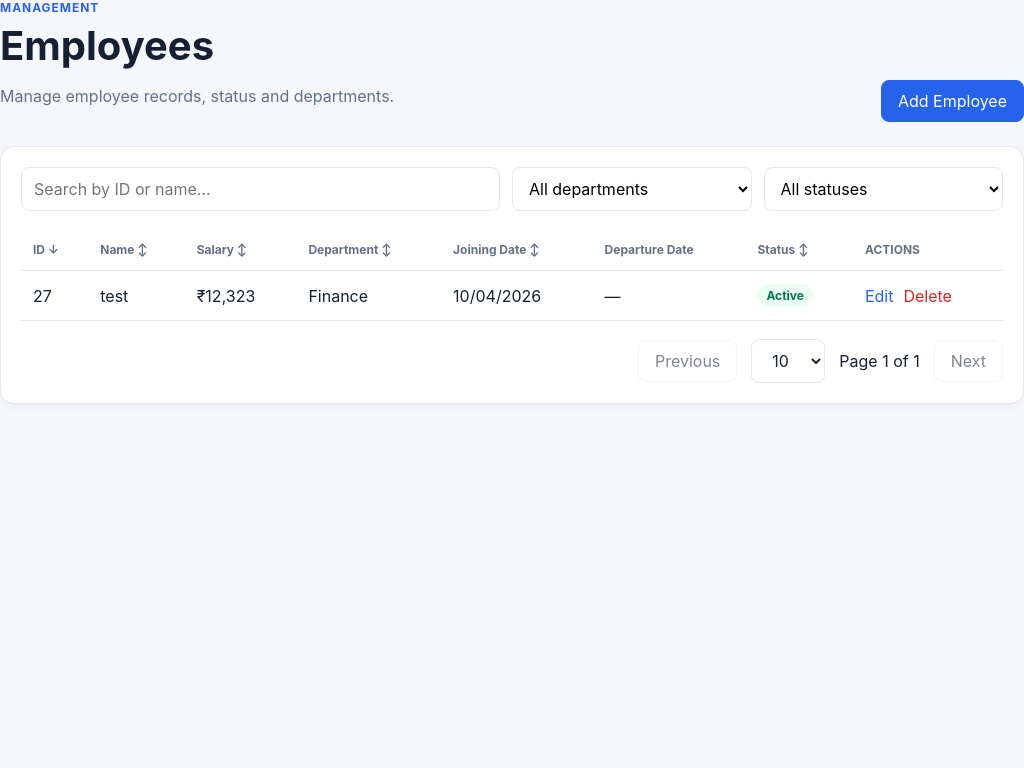
Scenario: EmployeesPage Component (Zustand State Mocking) › opens edit modal pre-populated with dummy data name 'test'
What coordinates should you click on to do the following:
click the button "Edit"
I would click on:
 (879, 296)
Its box is [865,286,893,306].
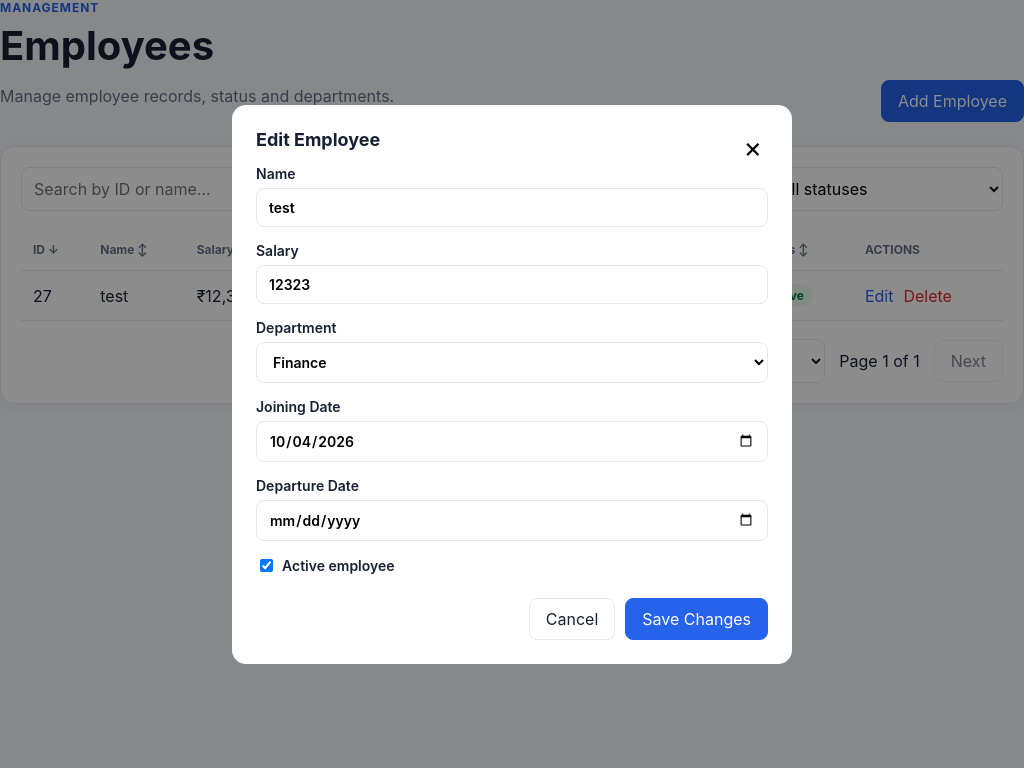
Expected: the field with placeholder "Enter employee name" holds "test", [256,188,768,226]
